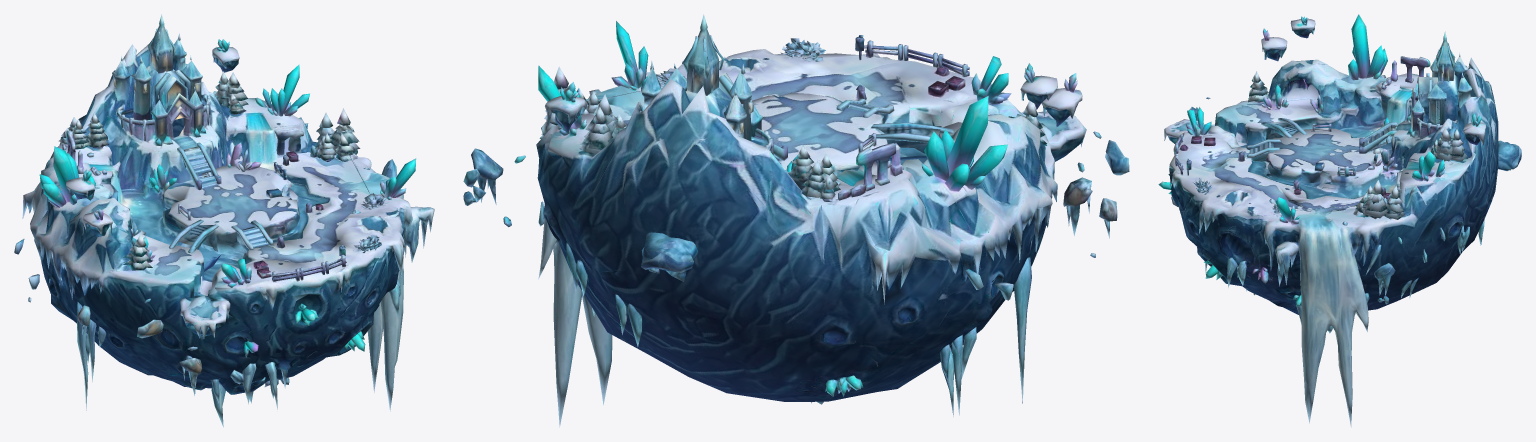
File: Floating_Ice_Castle_I.glb
3 renders of one model, left to right at view 1: azimuth 30°, elevation 25°; view 2: azimuth 150°, elevation 25°; view 3: azimuth 270°, elevation 25°, orthographic. The views are drawn at different scales.
Parts seen in each view (by area): view 1: Floating_Ice_Castle_I; view 2: Floating_Ice_Castle_I; view 3: Floating_Ice_Castle_I.
Part boxes in pixels (bbox=[...]): Floating_Ice_Castle_I: bbox=[14, 14, 434, 427]; Floating_Ice_Castle_I: bbox=[463, 14, 1129, 427]; Floating_Ice_Castle_I: bbox=[1158, 14, 1521, 427].
Size of the model in its own units: 0.9536 by 0.8281 by 0.8272.
Materials: 1 (1 with a texture image).
